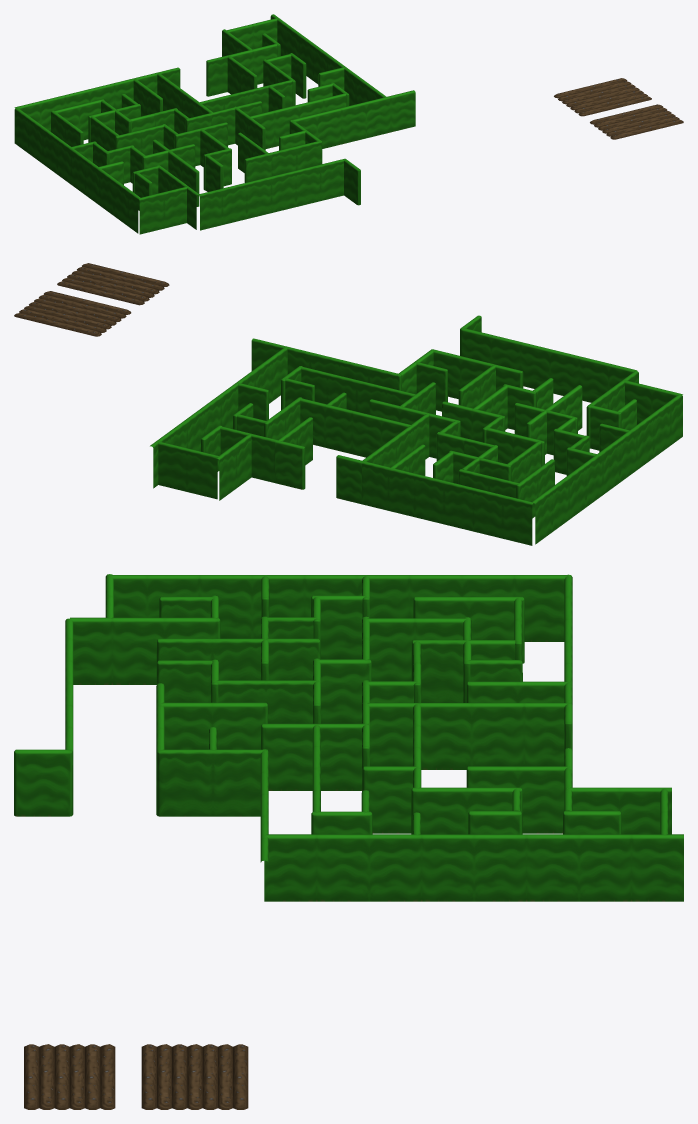
The model's file is maze_model.glb.
The picture shows the model from 3 angles, top to bottom: view 1: azimuth 30°, elevation 25°; view 2: azimuth 150°, elevation 25°; view 3: azimuth 270°, elevation 25°; orthographic projection. The views are drawn at different scales.
Parts seen in each view (by area): view 1: maze_t1; view 2: maze_t1; view 3: maze_t1.
Boxes of the visible parts, bbox=[...] form: maze_t1: bbox=[14, 14, 683, 234]; maze_t1: bbox=[14, 263, 682, 545]; maze_t1: bbox=[14, 574, 683, 1109].
Size of what is drawn, in the model's own units: 38.38 by 2.45 by 23.02.
1 material, 1 textured.
